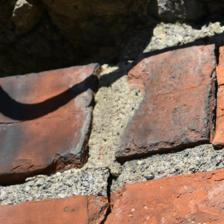Crack: (47, 80, 84, 144)
